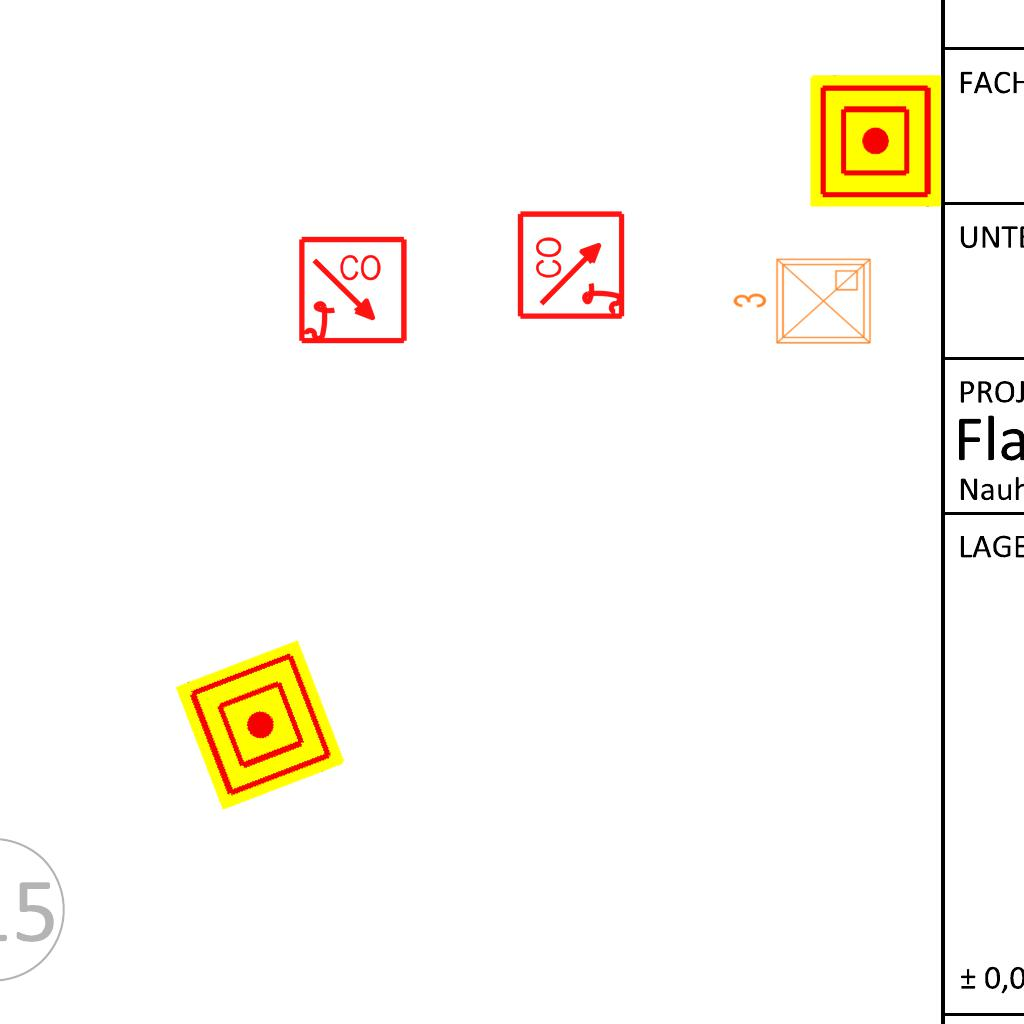Einbaudownlights_LED_Konferenzraeume: (728, 251, 878, 355)
NAM-Nichtautomatischer_Melder: (174, 639, 346, 811), (810, 75, 942, 207)
ROA_Rauchmelder_optisch_mit_Signalgeber_(Sockelsirene): (516, 208, 629, 321), (297, 235, 410, 348)
